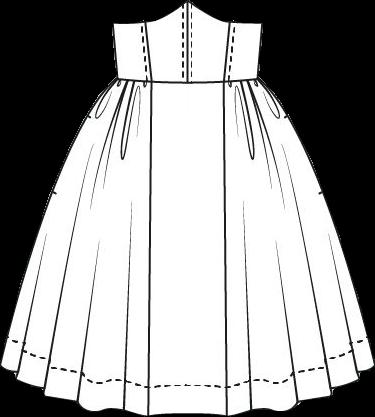Hemline: (0, 363, 374, 416)
Waistline: (111, 0, 259, 28), (114, 76, 260, 84)
